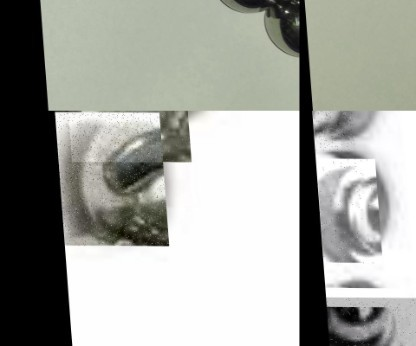ironball: (53, 111, 165, 246), (314, 158, 379, 263), (63, 110, 189, 162), (322, 297, 415, 346), (262, 0, 301, 61), (309, 110, 354, 151), (212, 0, 277, 16)
